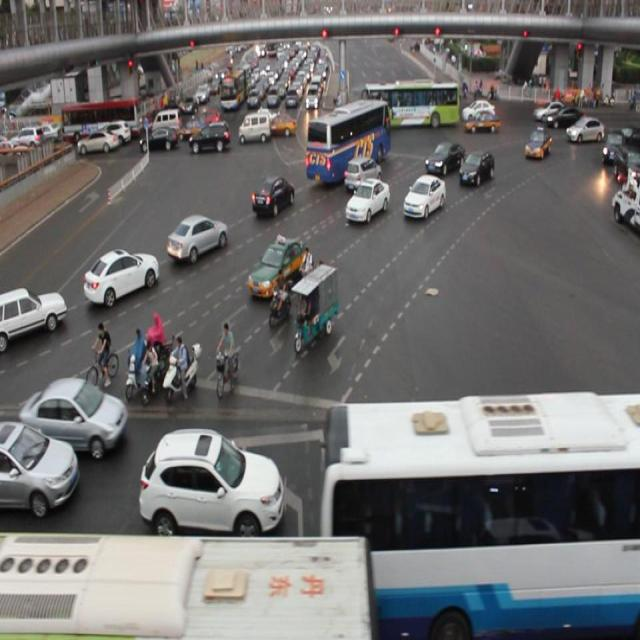car: (140, 424, 285, 535), (413, 423, 533, 538), (23, 378, 128, 462), (1, 416, 79, 518), (85, 243, 161, 310), (1, 284, 68, 354), (248, 236, 308, 297), (167, 211, 230, 264), (400, 171, 444, 219), (345, 178, 390, 224), (250, 174, 296, 218), (425, 140, 464, 173), (460, 150, 495, 183), (345, 157, 382, 186), (565, 113, 600, 143), (523, 126, 551, 161)
van: (322, 385, 640, 640), (1, 524, 377, 640), (308, 99, 390, 178)
